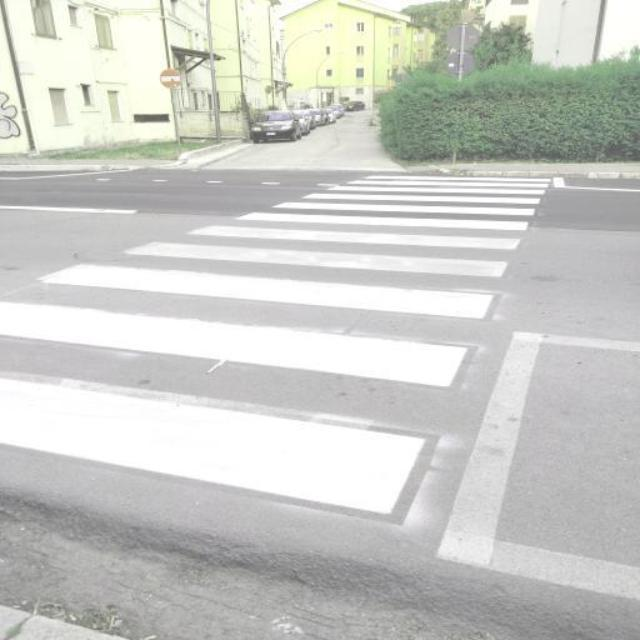sidewalk: (0, 174, 551, 513)
